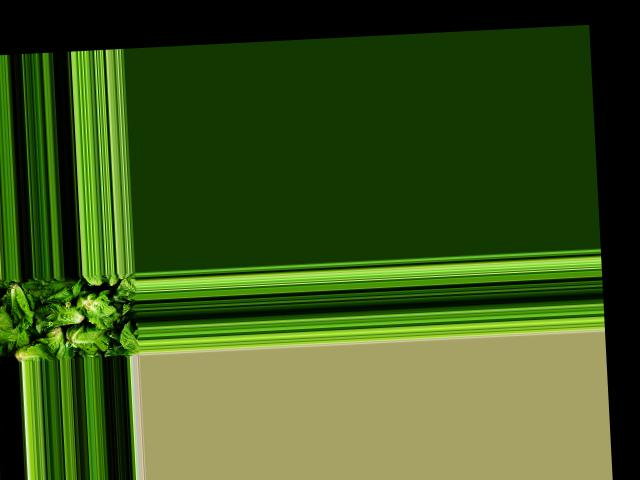lettuce: (7, 340, 57, 362)
